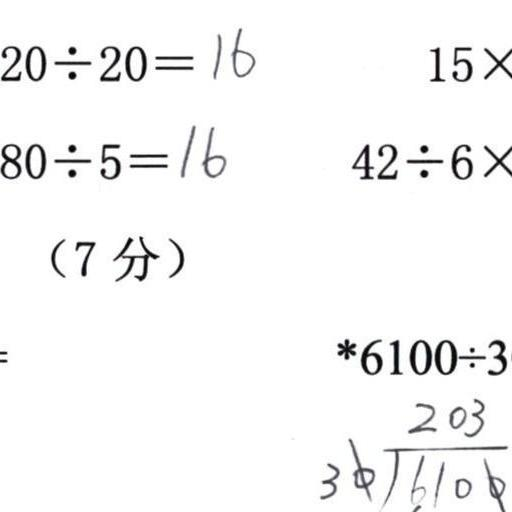ans: (174, 119, 226, 179), (206, 22, 255, 79)
